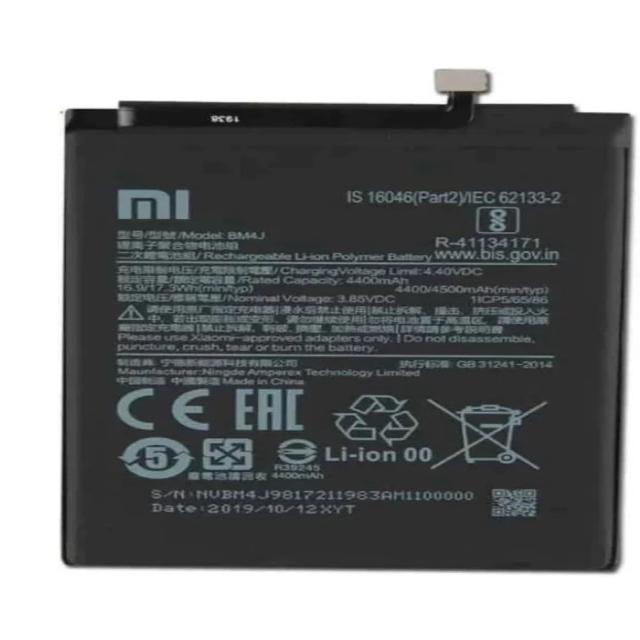electronic: (23, 34, 640, 640)
